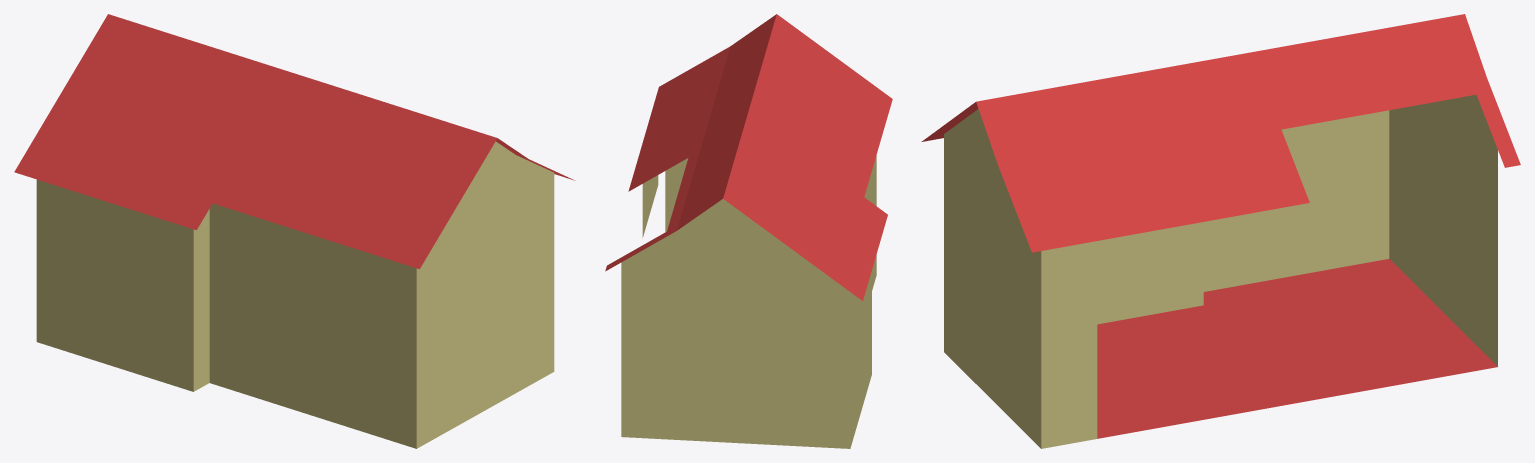
3 views of the same model, side by side, from view 1: azimuth 30°, elevation 25°; view 2: azimuth 150°, elevation 25°; view 3: azimuth 270°, elevation 25° (orthographic). The views are drawn at different scales.
Bounding box in the file's own units: 21.37 × 25.87 × 14.33.
